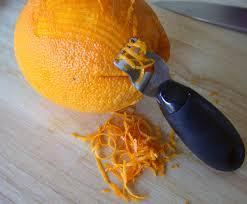Organic: (4, 2, 201, 193)
